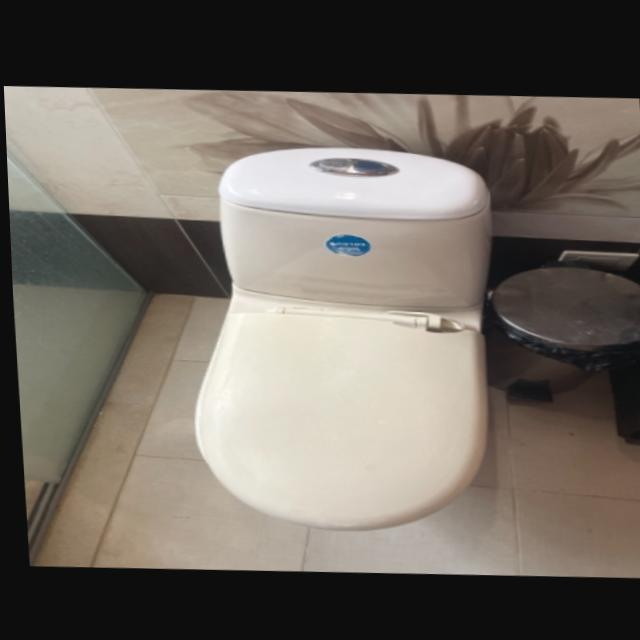toilet: (175, 136, 508, 535)
